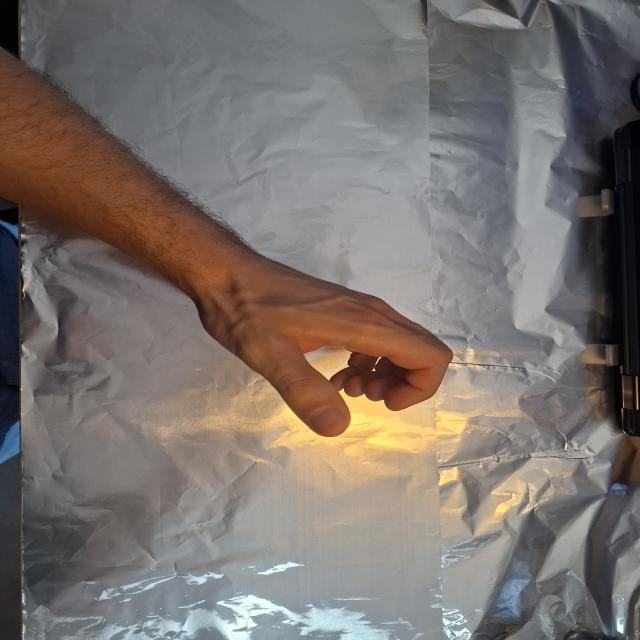glove_off: (194, 260, 457, 439)
